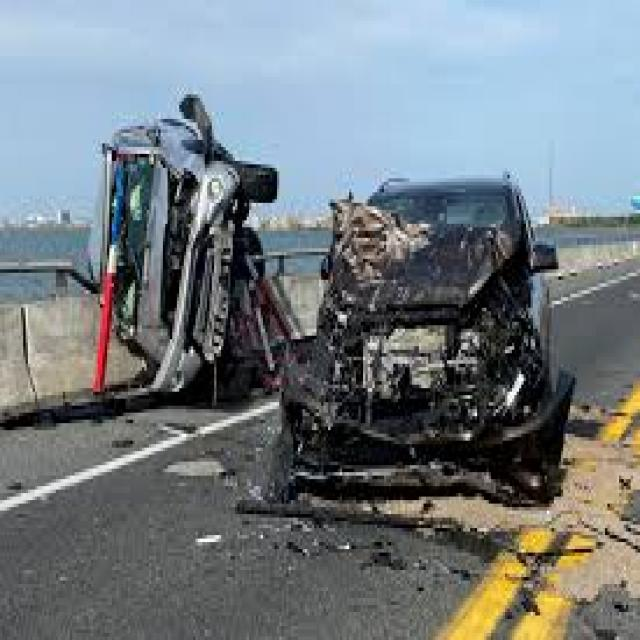accident: (52, 84, 594, 522), (301, 125, 584, 502), (69, 99, 284, 409)
